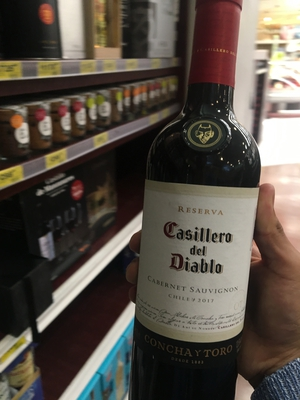casillero del diablo cabernet sauvignon: (122, 6, 266, 400)
